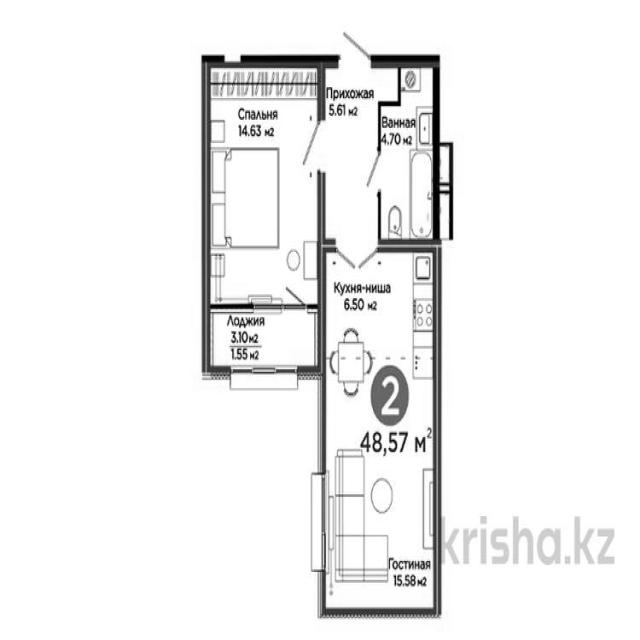balcony: (203, 307, 321, 375)
bathroom: (379, 62, 439, 244)
hallway: (322, 57, 381, 244)
living_room: (206, 61, 323, 312)
studio: (321, 240, 440, 613)
